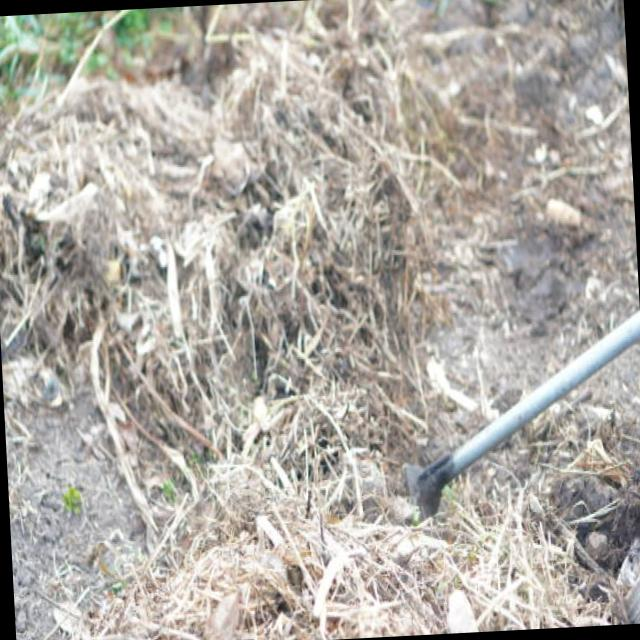paper: (261, 208, 367, 361), (105, 115, 211, 258), (222, 515, 324, 616), (368, 540, 449, 638)
